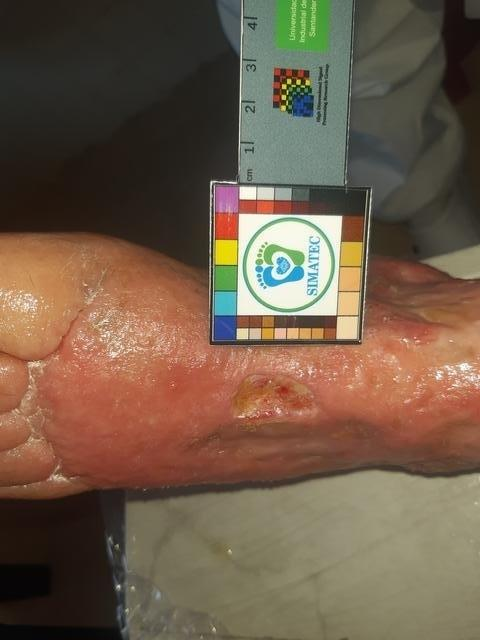wound: (227, 372, 318, 423)
